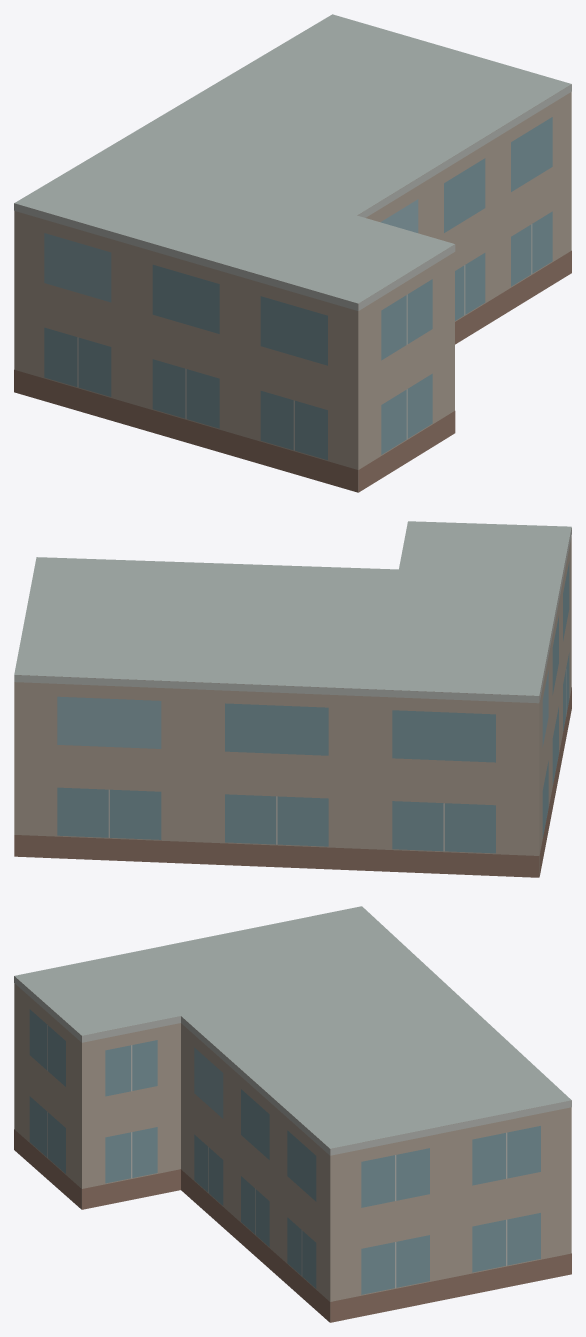
File: survey-upis-32705597.glb
3 renders of one model, top to bottom at view 1: azimuth 30°, elevation 25°; view 2: azimuth 150°, elevation 25°; view 3: azimuth 270°, elevation 25°, orthographic. The views are drawn at different scales.
Parts seen in each view (by area): view 1: survey-upis-32705597.tmp; view 2: survey-upis-32705597.tmp; view 3: survey-upis-32705597.tmp.
Boxes of the visible parts, <box> form: survey-upis-32705597.tmp: <box>14,14,571,492</box>; survey-upis-32705597.tmp: <box>14,521,571,877</box>; survey-upis-32705597.tmp: <box>14,906,571,1322</box>.
Size of the model in its own units: 18.26 by 6.1 by 17.73.
